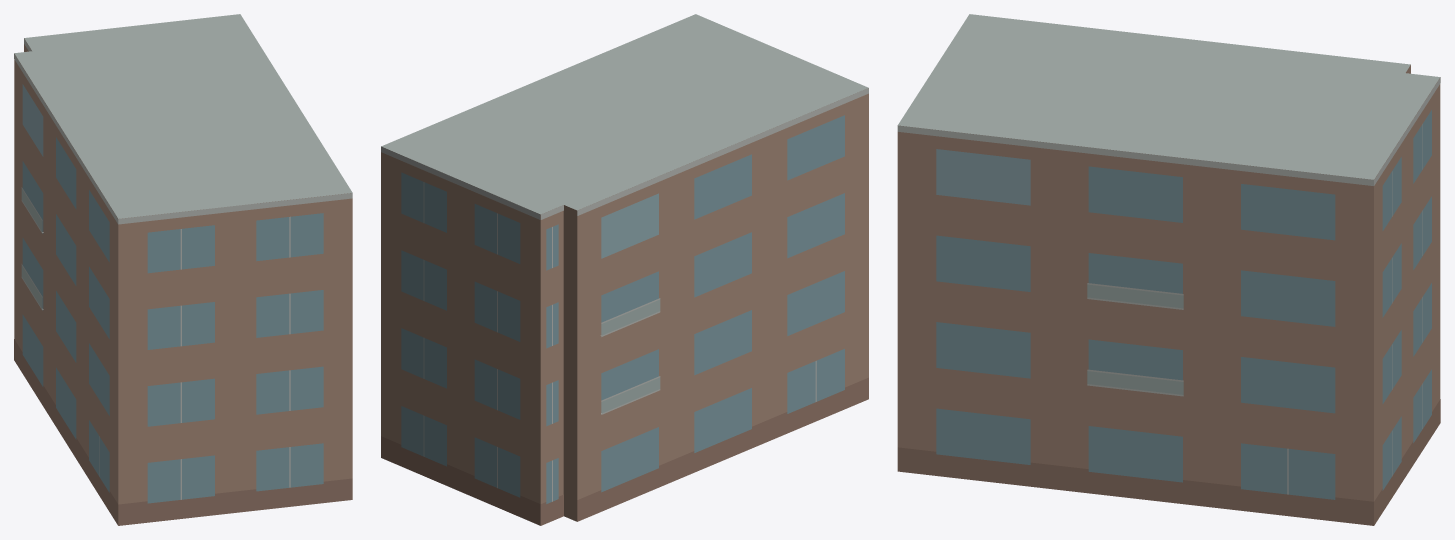
The model's file is survey-upis-32805099.glb.
3 renders of one model, left to right at view 1: azimuth 30°, elevation 25°; view 2: azimuth 150°, elevation 25°; view 3: azimuth 270°, elevation 25°, orthographic. The views are drawn at different scales.
Visible parts, largest first — view 1: survey-upis-32805099.tmp; view 2: survey-upis-32805099.tmp; view 3: survey-upis-32805099.tmp.
Part boxes in pixels (x1,y1,x2,y2): survey-upis-32805099.tmp: [14, 14, 352, 525]; survey-upis-32805099.tmp: [381, 14, 868, 525]; survey-upis-32805099.tmp: [897, 14, 1440, 525].
Size of the model in its own units: 13.68 by 13.3 by 18.92.
